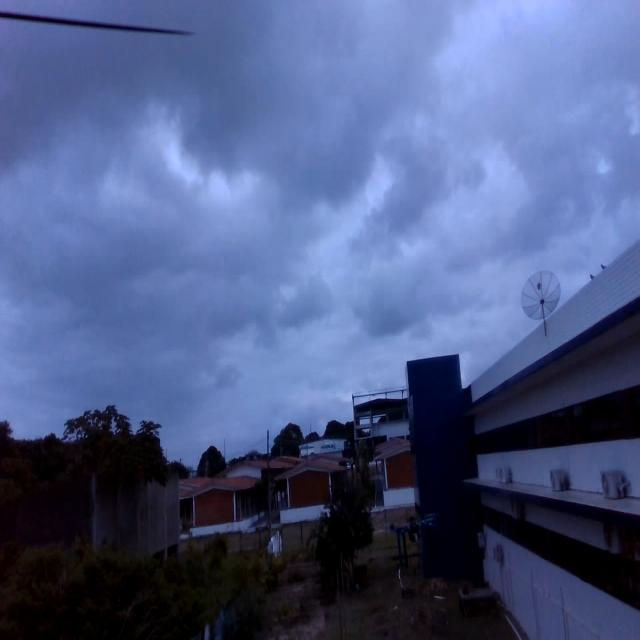-uav-: (383, 506, 452, 570)
